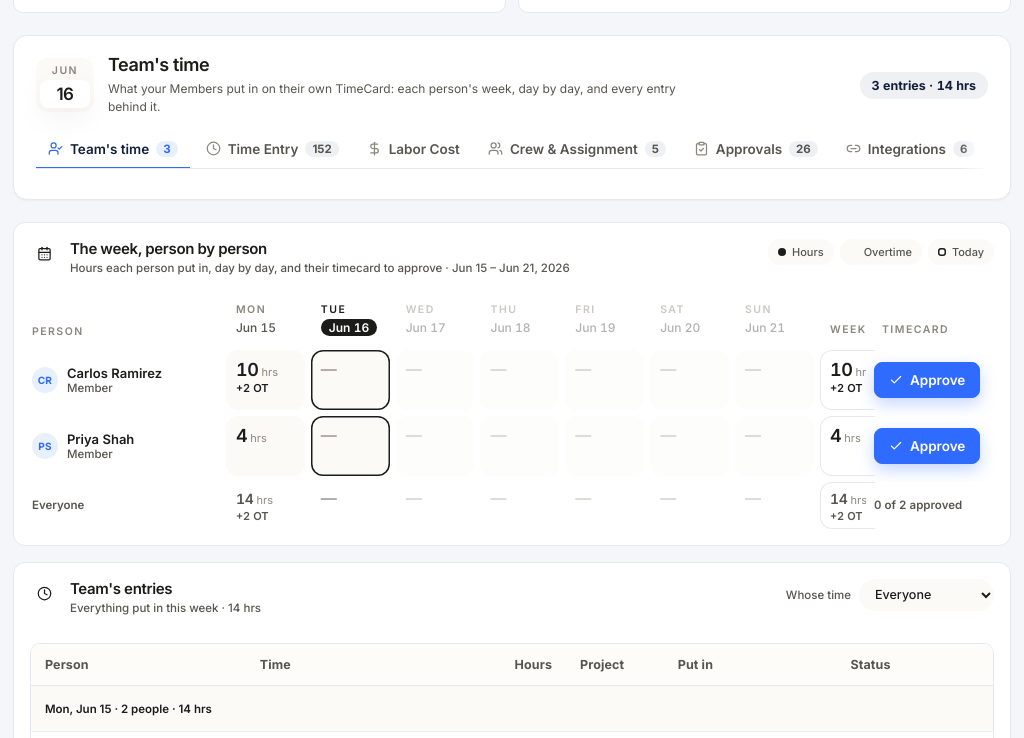
Test: approving a person's timecard › approves one person's week from the end of their row, and says so everywhere
The width and height of the screenshot is (1024, 738).
(page scrolled)
Click the button with aria-label "Approve Carlos Ramirez's timecard": click(927, 380) x1=874 y1=362 x2=980 y2=398
(page scrolled)
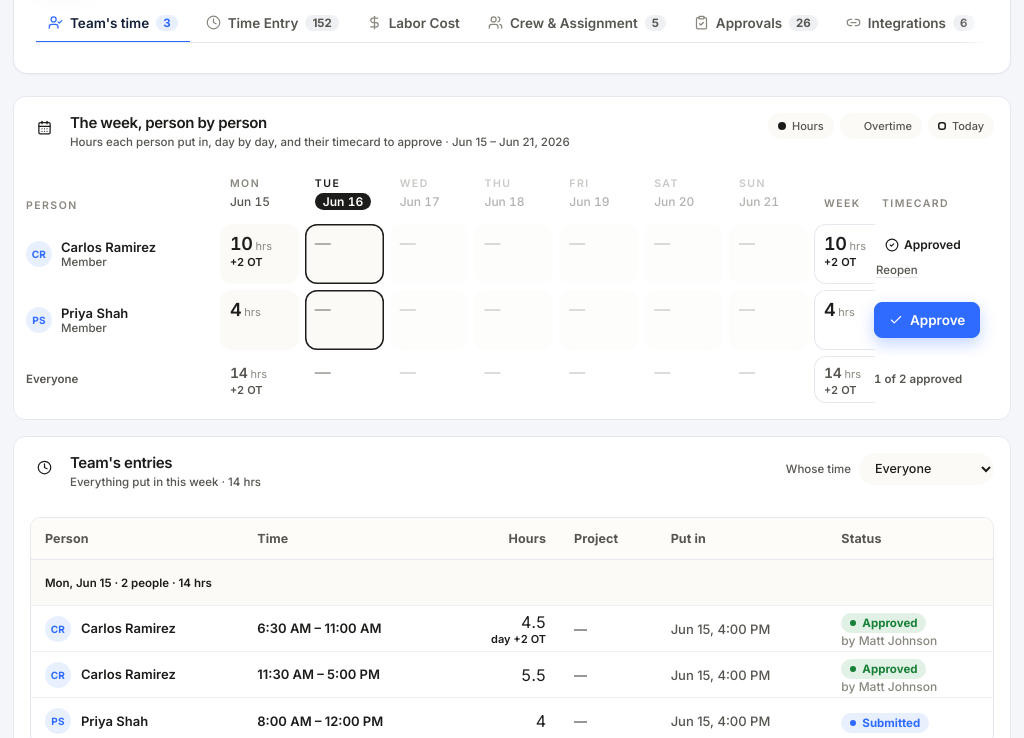
Now the text "Approved" is shown, box x1=885 y1=238 x2=961 y2=252
Now the button with aria-label "Reopen Carlos Ramirez's timecard" is shown, box x1=874 y1=263 x2=920 y2=277
Now the text "by Matt Johnson" is shown 2 times, box x1=841 y1=633 x2=937 y2=648; x1=841 y1=679 x2=937 y2=694
